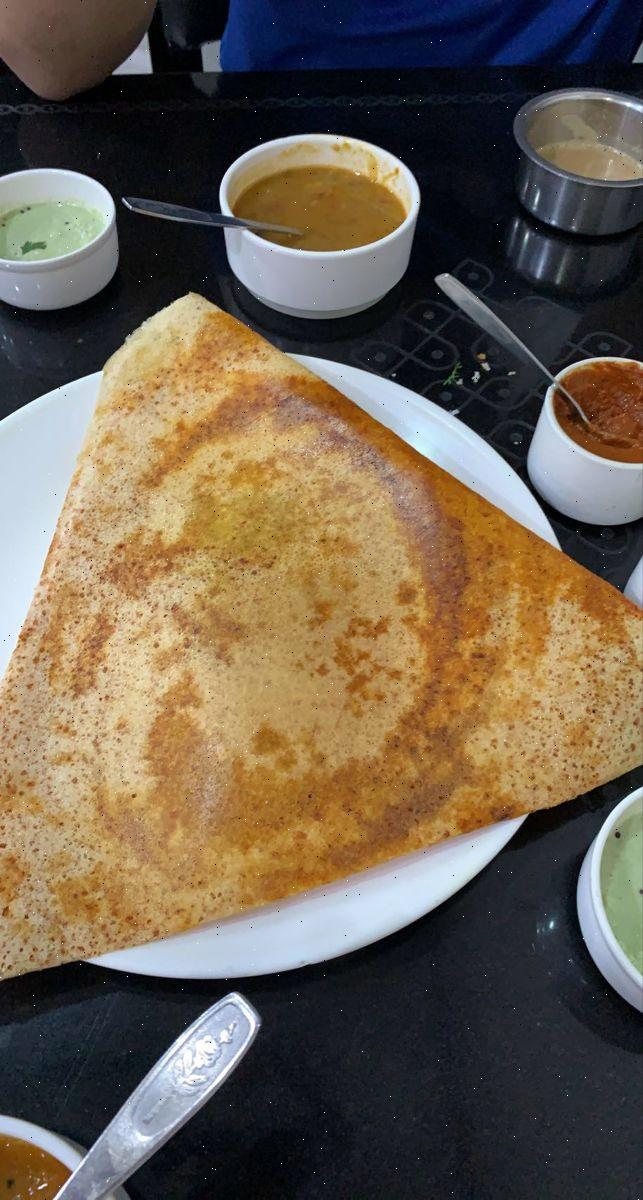dosa: (0, 312, 597, 977)
